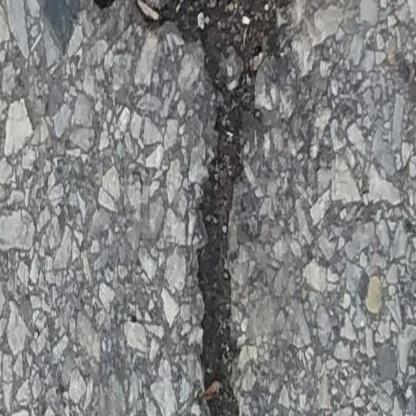Cracks: (85, 0, 302, 416)
